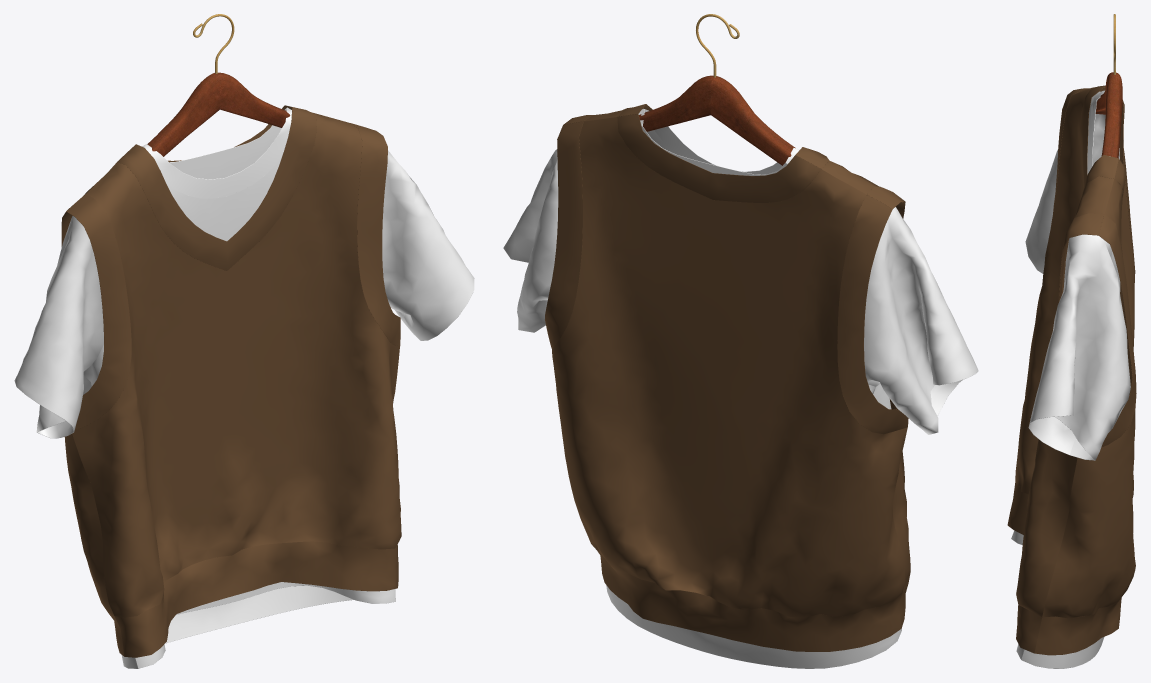
Rendered from FLG_12_03_2.fbx.
3 views of the same model, side by side, from view 1: azimuth 30°, elevation 25°; view 2: azimuth 150°, elevation 25°; view 3: azimuth 270°, elevation 25° (orthographic). The views are drawn at different scales.
Visible parts, largest first — view 1: FLG_12_03_2, Obj_Avatar_Shape; view 2: FLG_12_03_2, Obj_Avatar_Shape; view 3: FLG_12_03_2, Obj_Avatar_Shape.
Boxes of the visible parts, x1,y1,x2,y2 form: FLG_12_03_2: (14, 105, 474, 668); Obj_Avatar_Shape: (147, 14, 290, 156); FLG_12_03_2: (503, 104, 978, 668); Obj_Avatar_Shape: (638, 14, 795, 165); FLG_12_03_2: (1007, 85, 1136, 668); Obj_Avatar_Shape: (1095, 14, 1122, 158).
Bounding box in the file's own units: 63.22 × 82.81 × 16.
